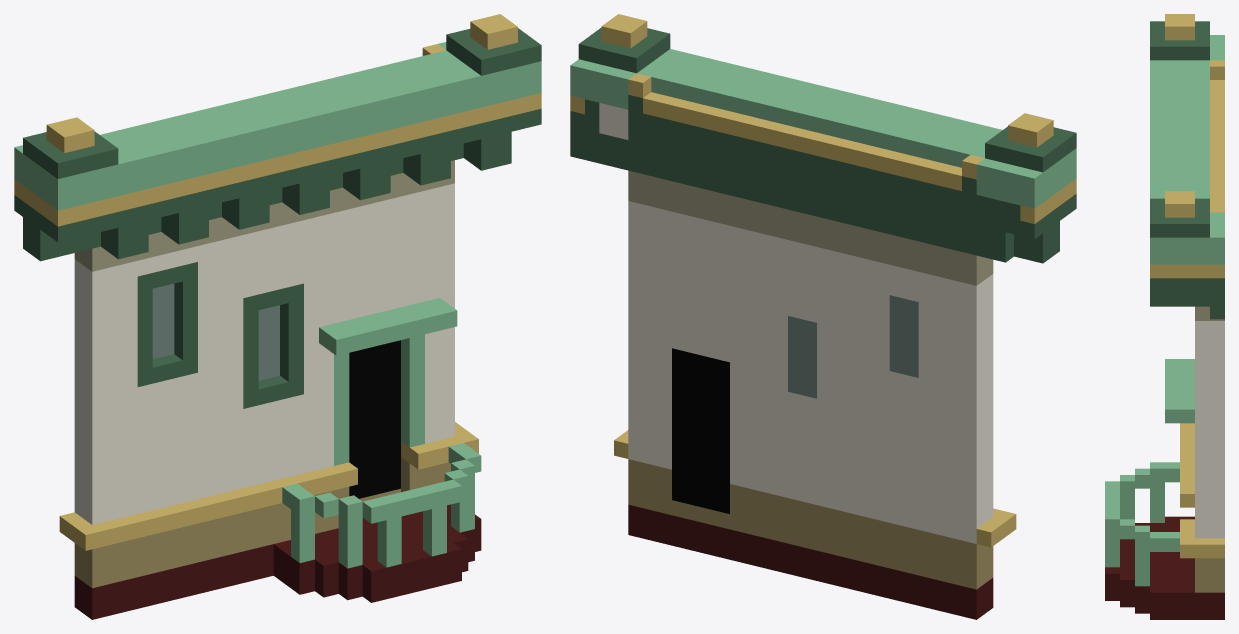
Rendered from tile_4_left_90.obj.
3 views of the same model, side by side, from view 1: azimuth 30°, elevation 25°; view 2: azimuth 150°, elevation 25°; view 3: azimuth 270°, elevation 25° (orthographic). The views are drawn at different scales.
Size of the model in its own units: 3.2 by 3.2 by 0.8.
